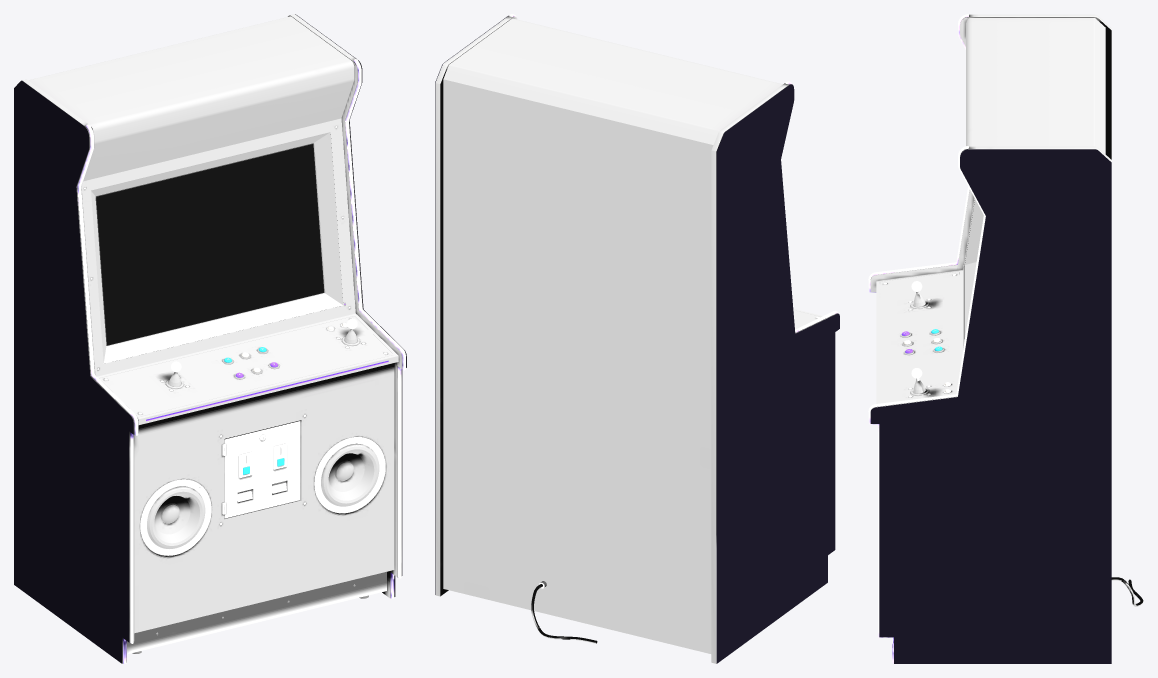
The model's file is cab-vgm-battle-v2.glb.
3 views of the same model, side by side, from view 1: azimuth 30°, elevation 25°; view 2: azimuth 150°, elevation 25°; view 3: azimuth 270°, elevation 25° (orthographic). The views are drawn at different scales.
Visible parts, largest first — view 1: body, side_art_l, screen, glass, trim, metal, side_art_r; view 2: body, side_art_l, side_art_r; view 3: side_art_r, body, trim.
Part boxes in pixels (x1,y1,x2,y2): body: (22, 14, 406, 663); side_art_l: (14, 80, 133, 663); screen: (96, 144, 323, 345); glass: (97, 144, 324, 345); trim: (77, 59, 405, 663); metal: (84, 126, 387, 653); side_art_r: (295, 14, 406, 596); body: (435, 16, 837, 663); side_art_l: (716, 84, 839, 663); side_art_r: (435, 16, 507, 594); side_art_r: (870, 149, 1111, 663); body: (870, 14, 1111, 409); trim: (868, 14, 985, 663).
Size of the model in its own units: 1.08 by 1.94 by 0.9355.
Materials: 23 (9 with a texture image).
